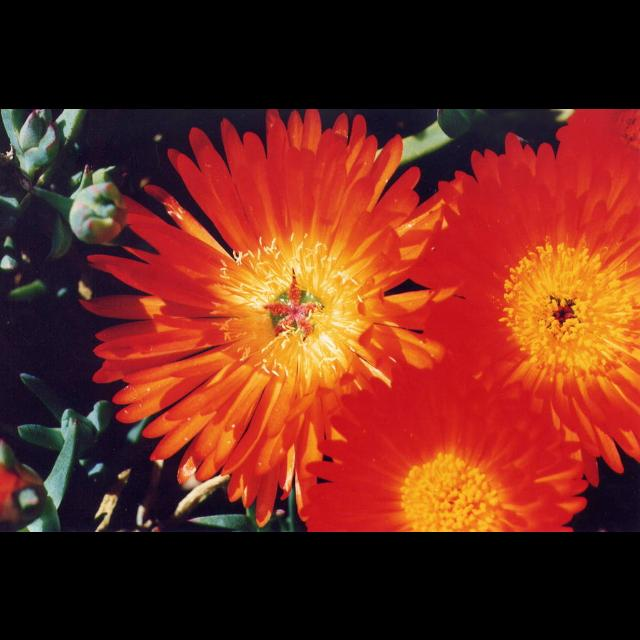Flower: (90, 172, 443, 473), (414, 109, 640, 478), (296, 353, 590, 531)
